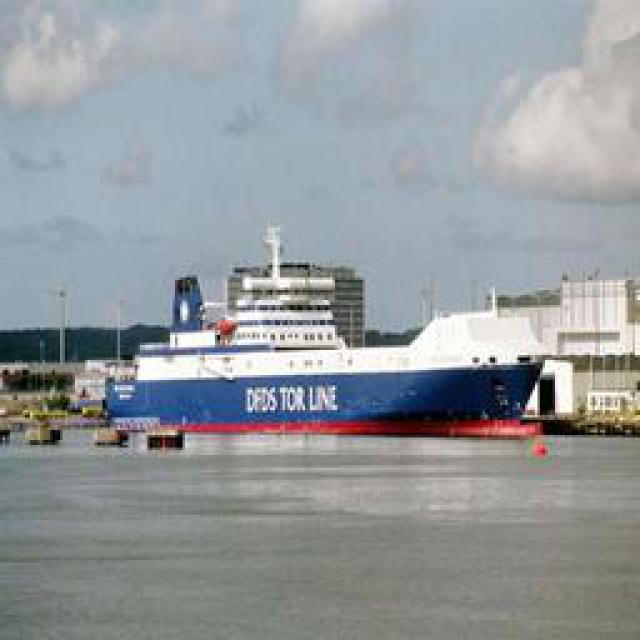Ship: (102, 229, 562, 444)
